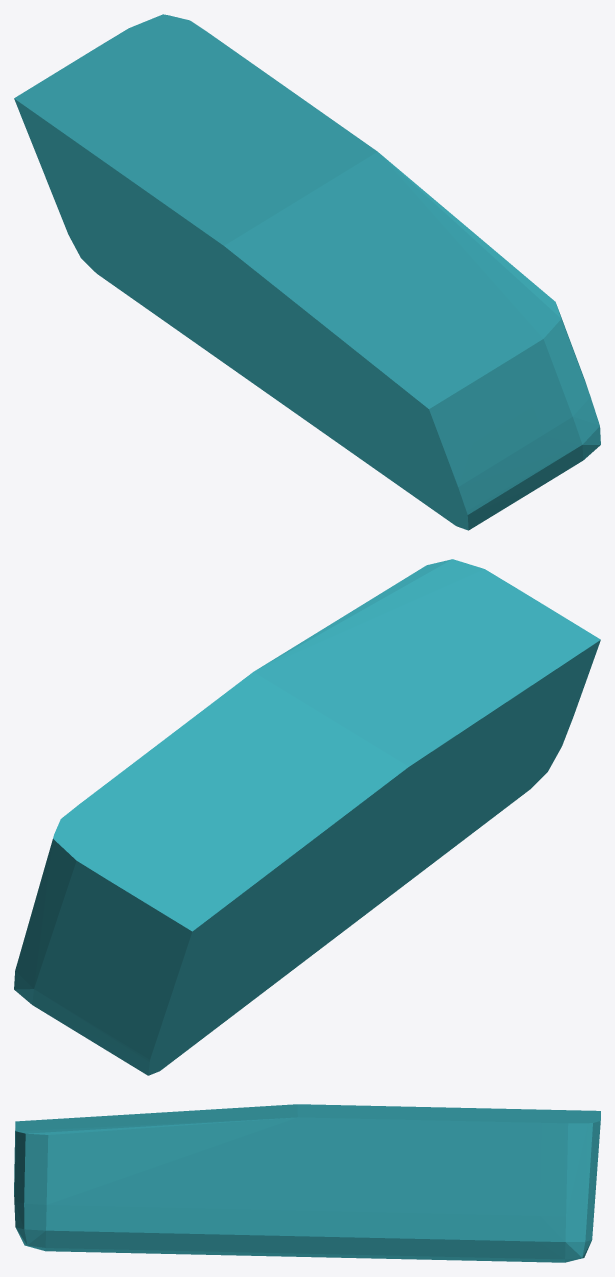
File: converted_Downdraft_Assy_collision_42_39afbcff.obj
The picture shows the model from 3 angles, top to bottom: view 1: azimuth 30°, elevation 25°; view 2: azimuth 150°, elevation 25°; view 3: azimuth 270°, elevation 25°; orthographic projection. The views are drawn at different scales.
Size of the model in its own units: 0.0944 by 0.1077 by 0.3404.
